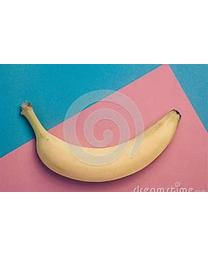banana: (19, 98, 182, 182)
